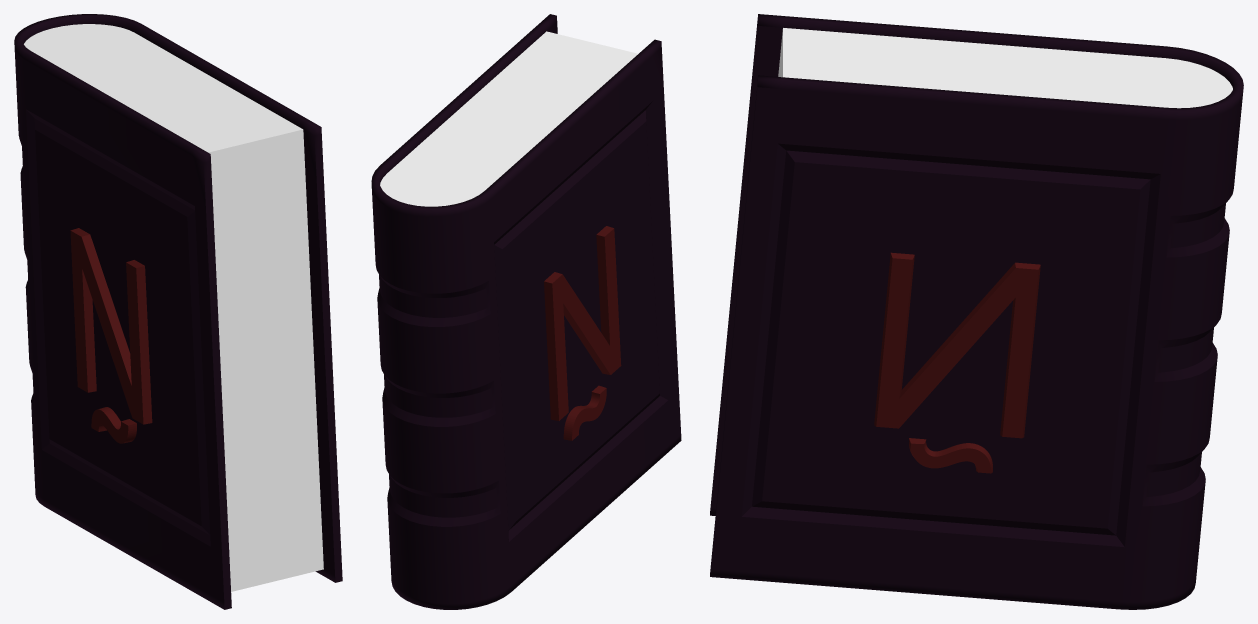
The model's file is libro1.FBX.
3 renders of one model, left to right at view 1: azimuth 30°, elevation 25°; view 2: azimuth 150°, elevation 25°; view 3: azimuth 270°, elevation 25°, orthographic. The views are drawn at different scales.
Visible parts, largest first — view 1: LIBRO; view 2: LIBRO; view 3: LIBRO.
Boxes of the visible parts, box(x1,y1,x2,y2) form: LIBRO: box(14, 14, 342, 609); LIBRO: box(371, 14, 681, 609); LIBRO: box(710, 14, 1243, 609).
Bounding box in the file's own units: 20.85 × 70.77 × 63.85.
